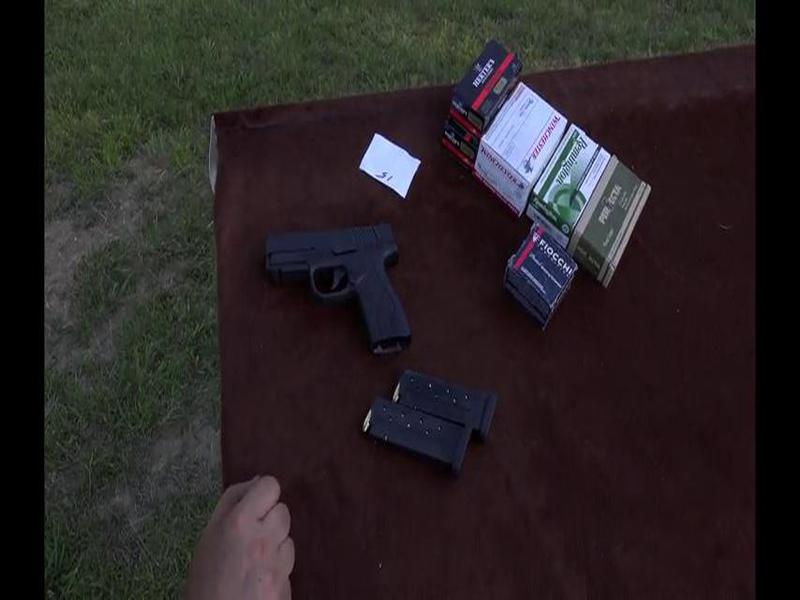Pistola: (252, 214, 442, 365)
